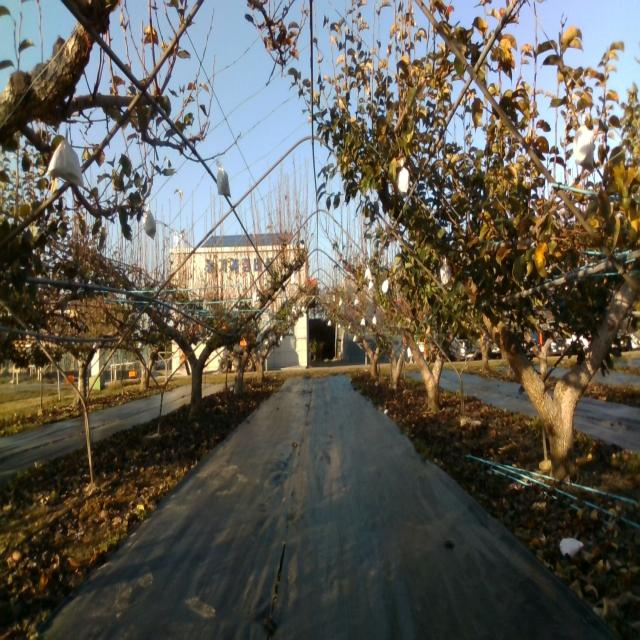pearbags: (46, 138, 84, 188), (573, 125, 594, 172), (214, 158, 232, 198), (142, 201, 156, 241), (396, 166, 411, 198), (440, 262, 452, 288)
